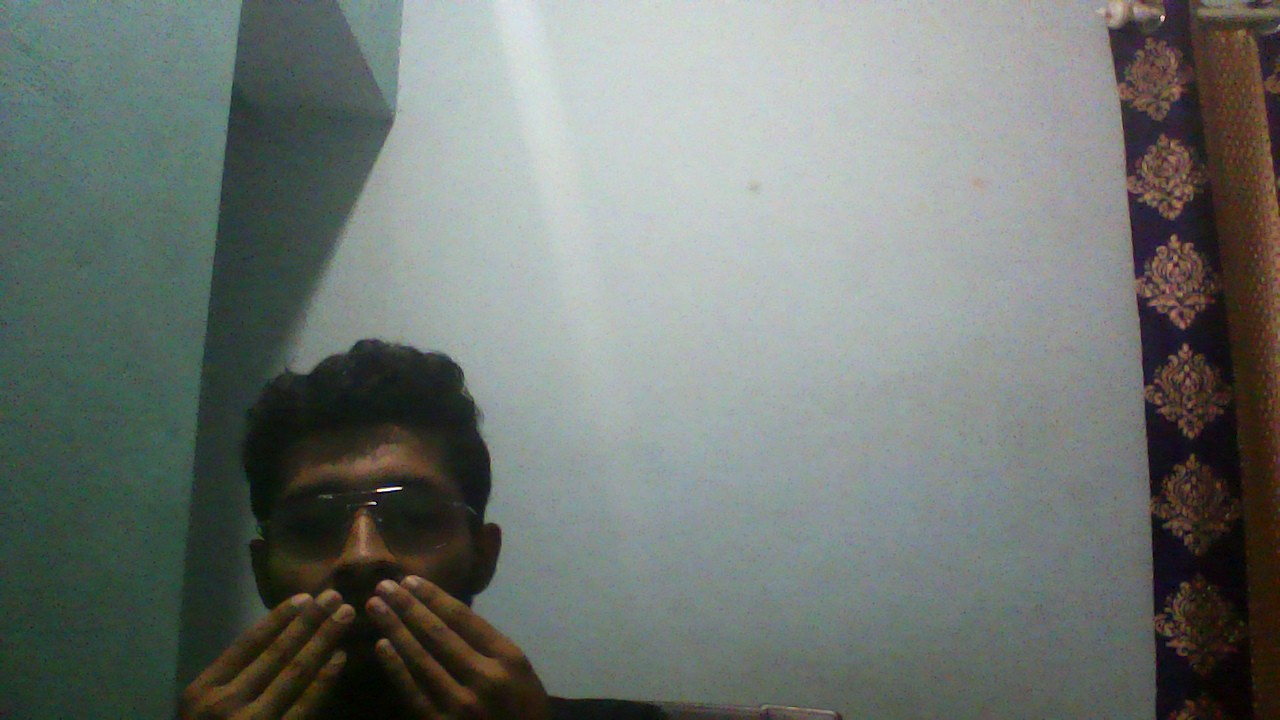Thanks: (162, 554, 601, 720)
